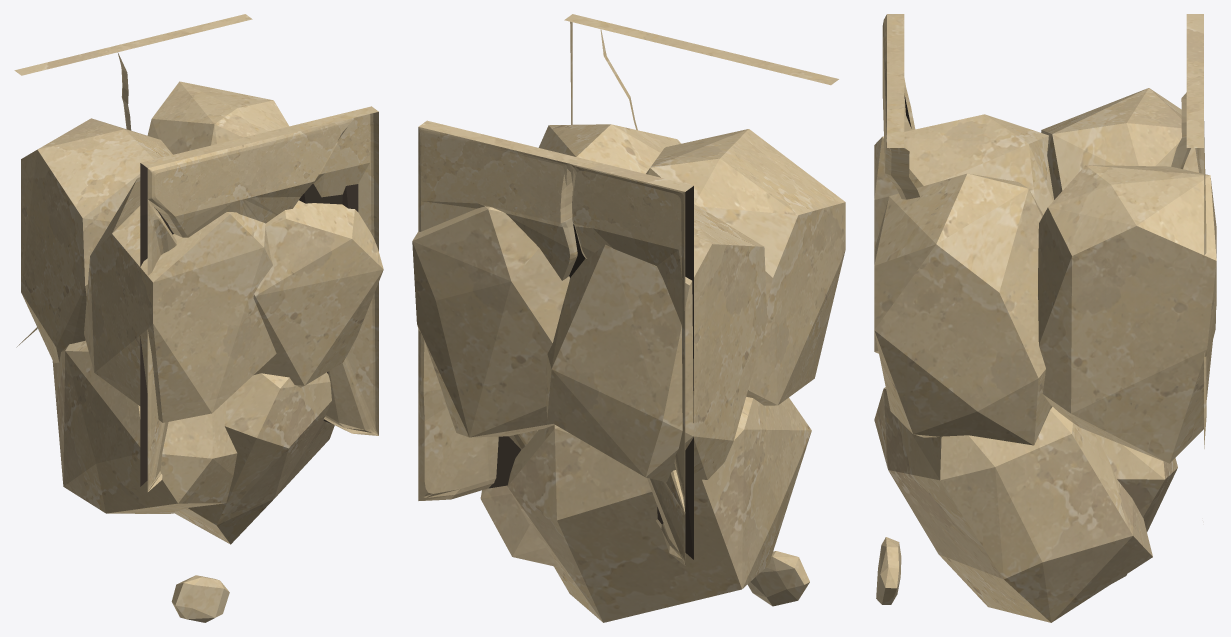
The model's file is ground_bottom_square_strip_01.glb.
3 views of the same model, side by side, from view 1: azimuth 30°, elevation 25°; view 2: azimuth 150°, elevation 25°; view 3: azimuth 270°, elevation 25° (orthographic). The views are drawn at different scales.
Visible parts, largest first — view 1: GroundBottomSquareStrip01_Body; view 2: GroundBottomSquareStrip01_Body; view 3: GroundBottomSquareStrip01_Body.
Part boxes in pixels (bbox=[...]): GroundBottomSquareStrip01_Body: bbox=[14, 14, 383, 622]; GroundBottomSquareStrip01_Body: bbox=[412, 14, 845, 622]; GroundBottomSquareStrip01_Body: bbox=[874, 14, 1216, 622].
Size of the model in its own units: 1 by 1.94 by 1.08.
Materials: 9 (8 with a texture image).
